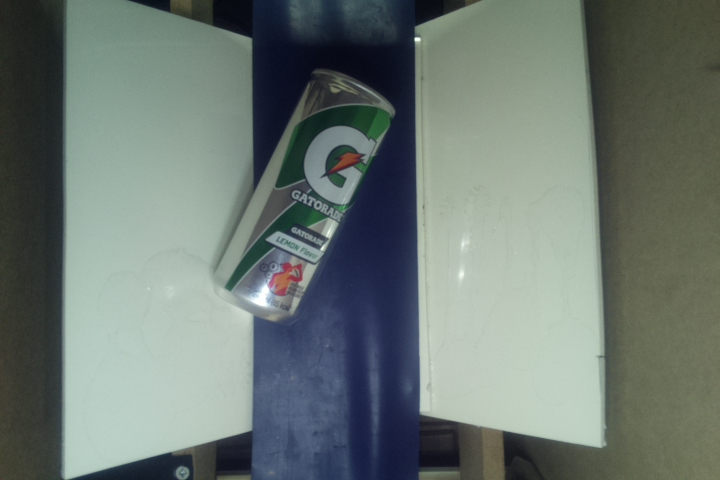can: (208, 68, 399, 328)
